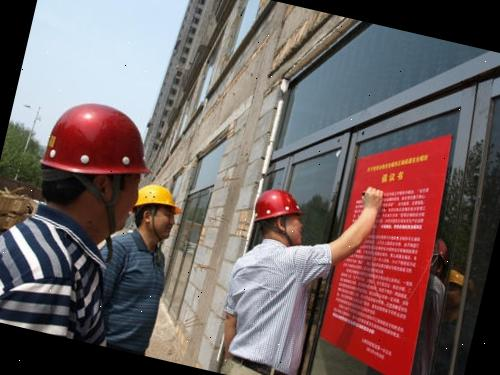helmet: (38, 92, 168, 206), (251, 184, 309, 231), (133, 180, 184, 217)
no_wear: (0, 208, 109, 341), (214, 239, 312, 375), (82, 232, 168, 354)
